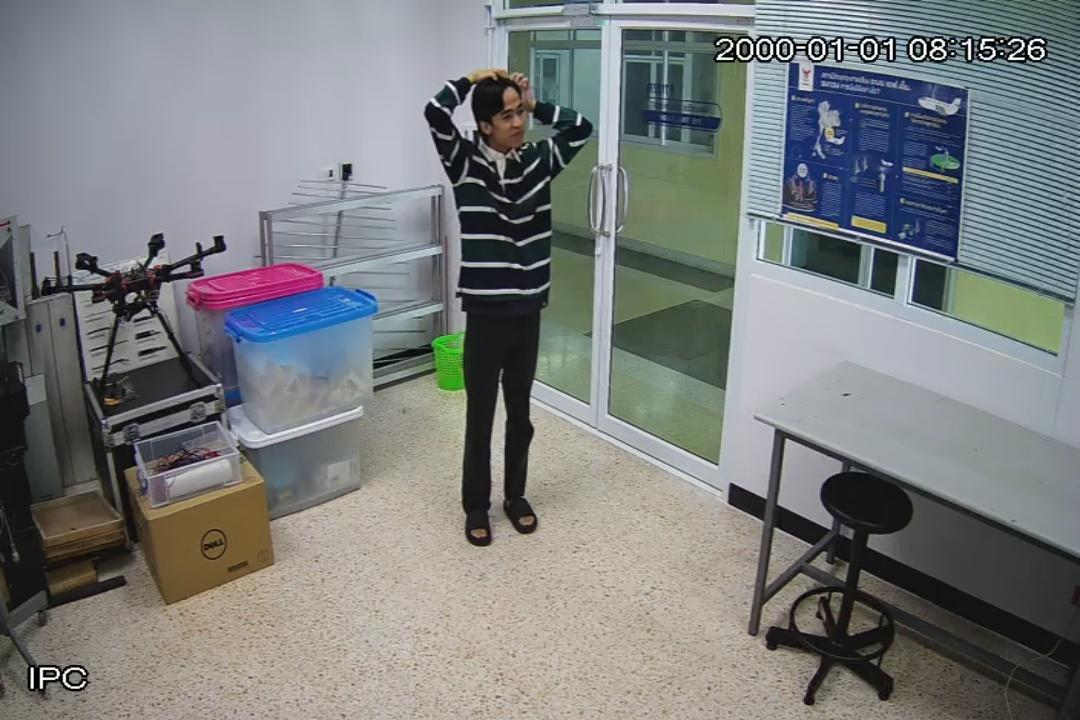normal: (427, 68, 589, 543)
